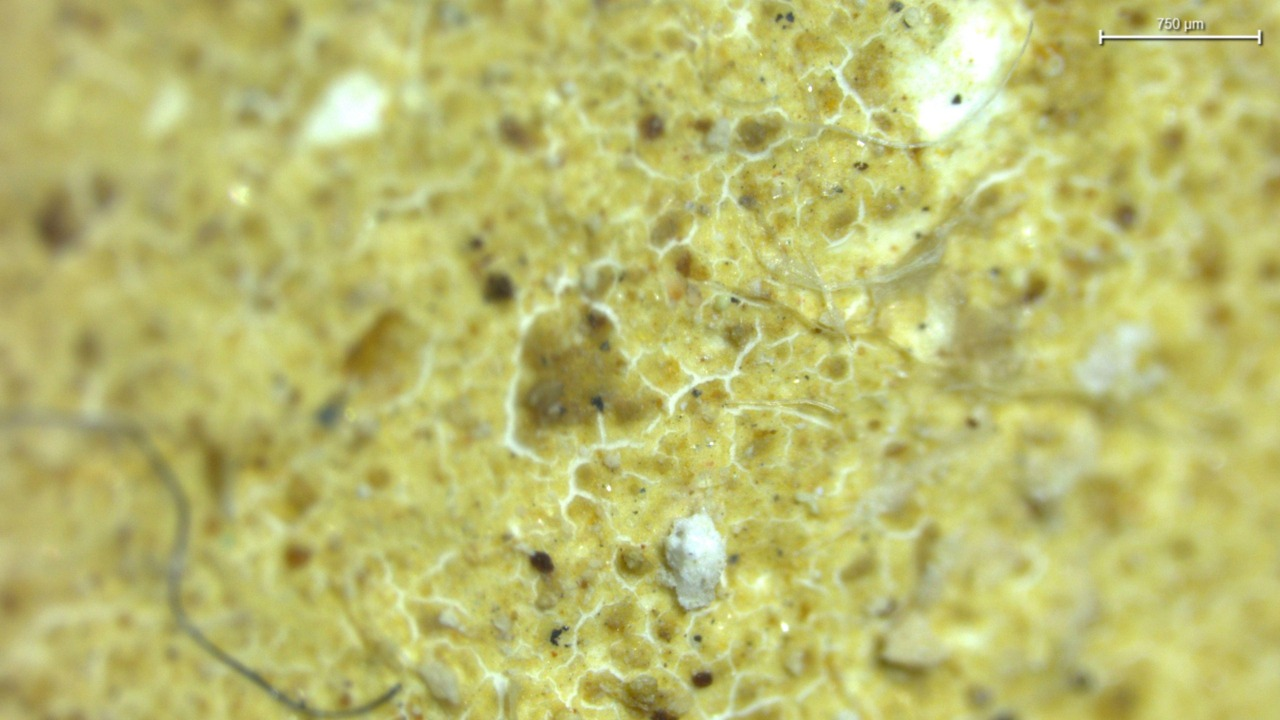microplastic_fragment: (665, 512, 727, 609)
